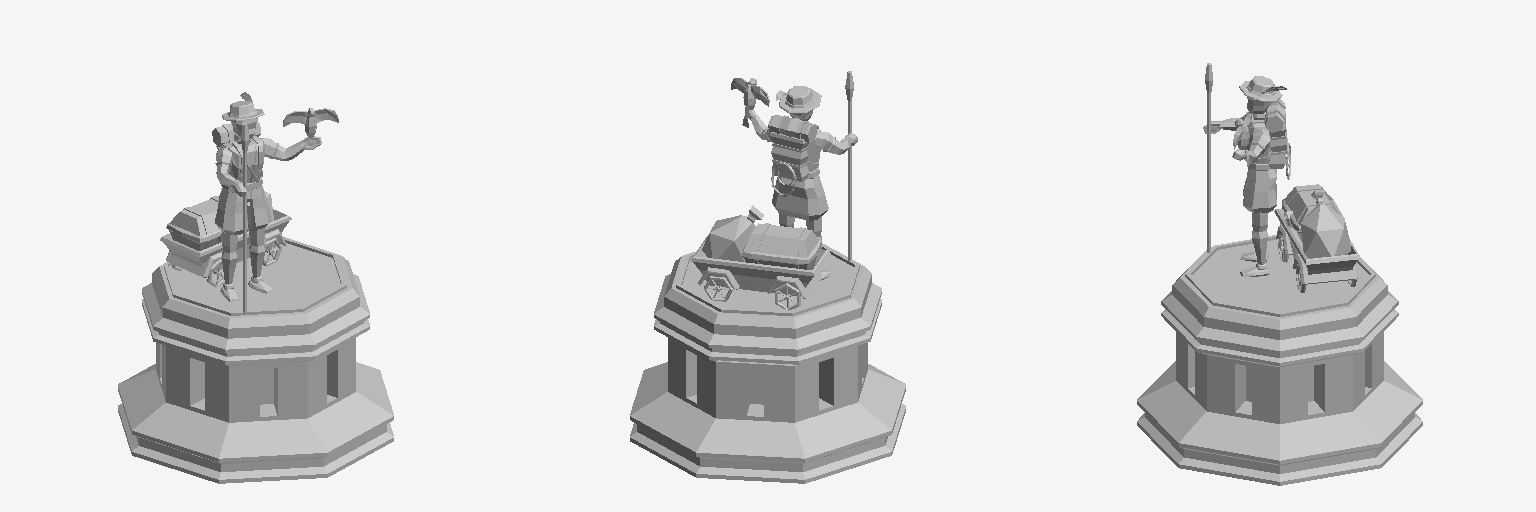
Rendered from Traveling.obj.
3 renders of one model, left to right at view 1: azimuth 30°, elevation 25°; view 2: azimuth 150°, elevation 25°; view 3: azimuth 270°, elevation 25°, orthographic.
Size of the model in its own units: 8.93 by 11.65 by 8.93.